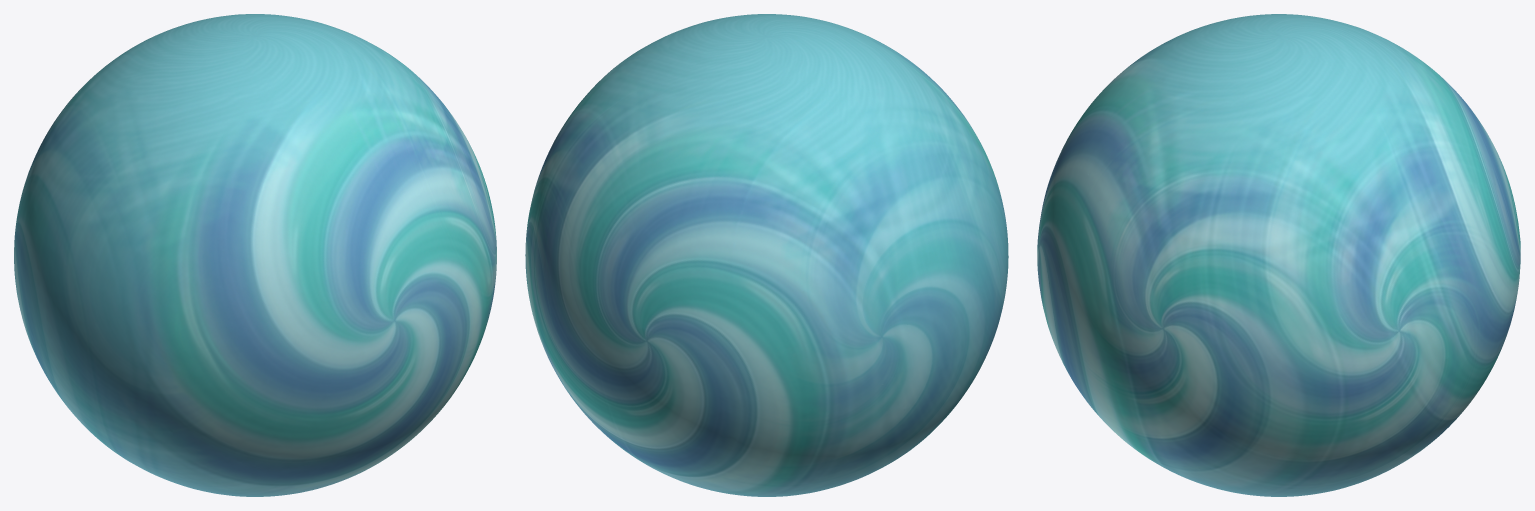
File: level3pistolbullet.glb
The picture shows the model from 3 angles, left to right: view 1: azimuth 30°, elevation 25°; view 2: azimuth 150°, elevation 25°; view 3: azimuth 270°, elevation 25°; orthographic projection.
Size of the model in its own units: 1.9 by 1.89 by 1.9.
1 material, 1 textured.
